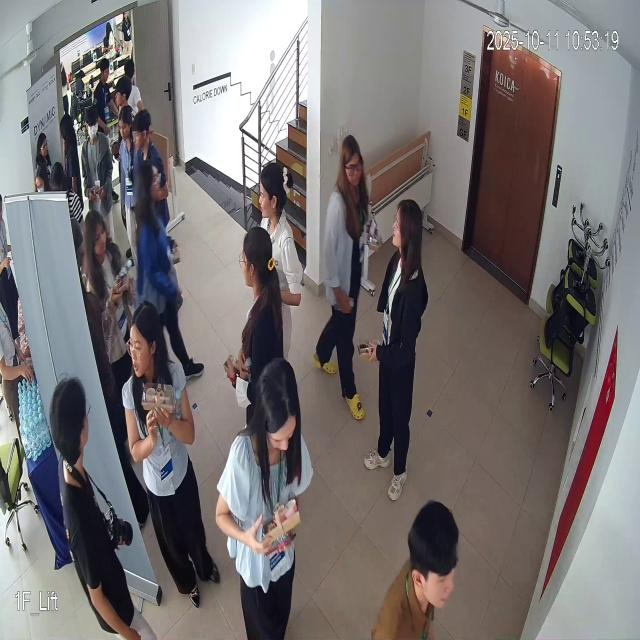face: (124, 297, 167, 384), (390, 195, 424, 266), (339, 130, 369, 199)
